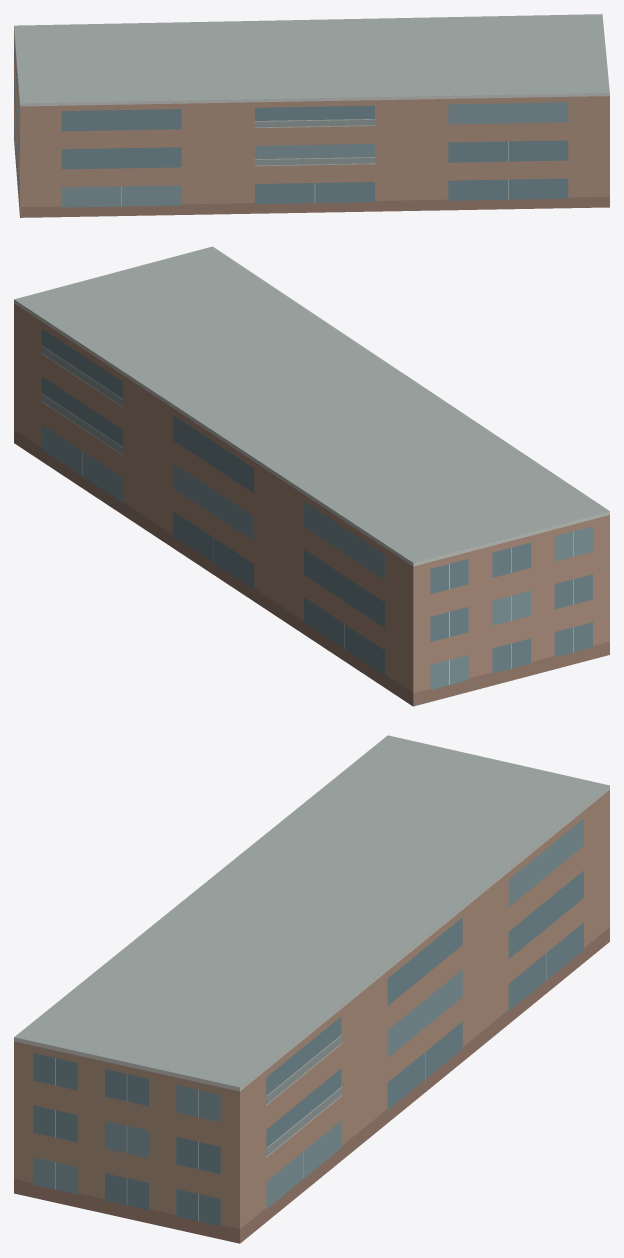
The model's file is survey-upis-32946379.glb.
3 renders of one model, top to bottom at view 1: azimuth 30°, elevation 25°; view 2: azimuth 150°, elevation 25°; view 3: azimuth 270°, elevation 25°, orthographic. The views are drawn at different scales.
Visible parts, largest first — view 1: survey-upis-32946379.tmp; view 2: survey-upis-32946379.tmp; view 3: survey-upis-32946379.tmp.
Part boxes in pixels (x1,y1,x2,y2): survey-upis-32946379.tmp: (14, 14, 609, 217); survey-upis-32946379.tmp: (14, 246, 609, 706); survey-upis-32946379.tmp: (14, 735, 609, 1243).
Bounding box in the file's own units: 44.24 × 9.15 × 31.63.
